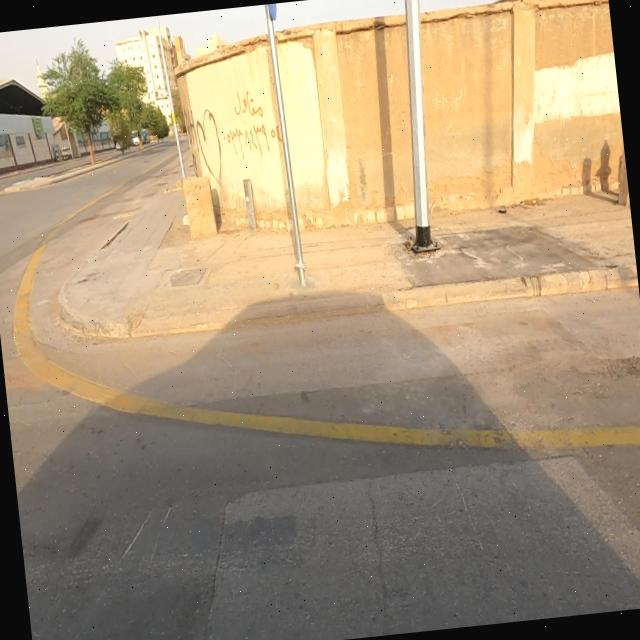Graffiti: (192, 89, 290, 190), (184, 107, 201, 178)
